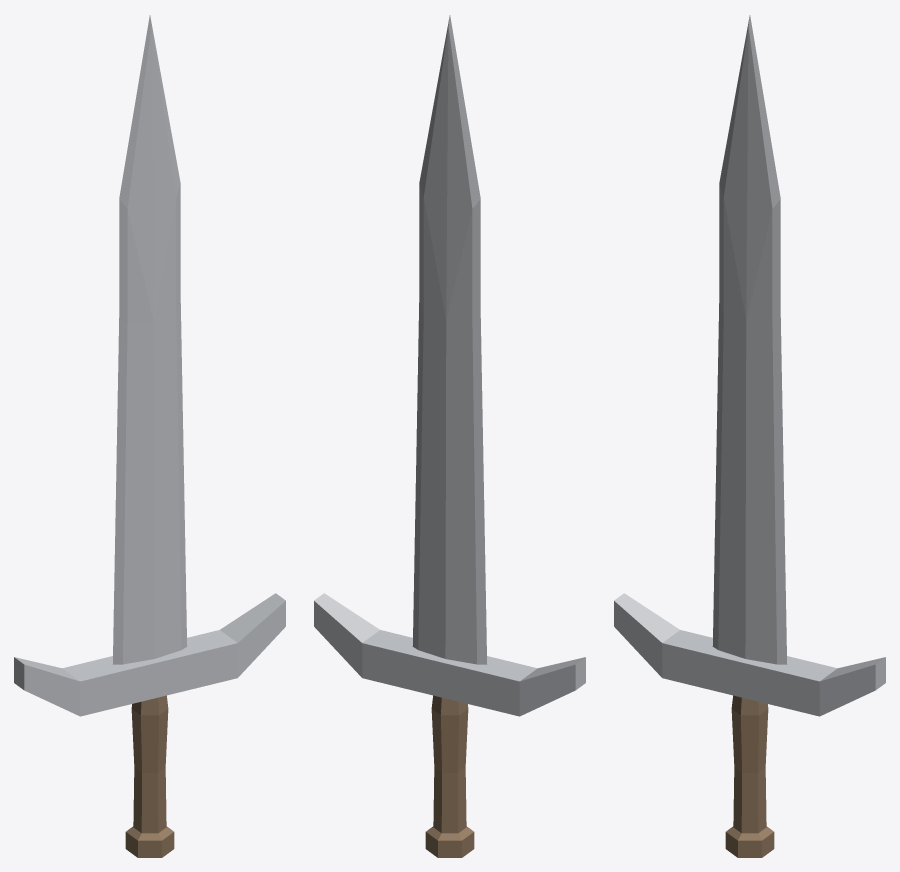
The model's file is weapon_warden_edge.glb.
The picture shows the model from 3 angles, left to right: view 1: azimuth 30°, elevation 25°; view 2: azimuth 150°, elevation 25°; view 3: azimuth 330°, elevation 25°; orthographic projection.
Visible parts, largest first — view 1: warden_edge; view 2: warden_edge; view 3: warden_edge.
Part boxes in pixels (bbox=[...]): warden_edge: bbox=[14, 15, 285, 857]; warden_edge: bbox=[314, 15, 585, 857]; warden_edge: bbox=[614, 15, 885, 857].
Bounding box in the file's own units: 0.3772 × 1.15 × 0.0604.
